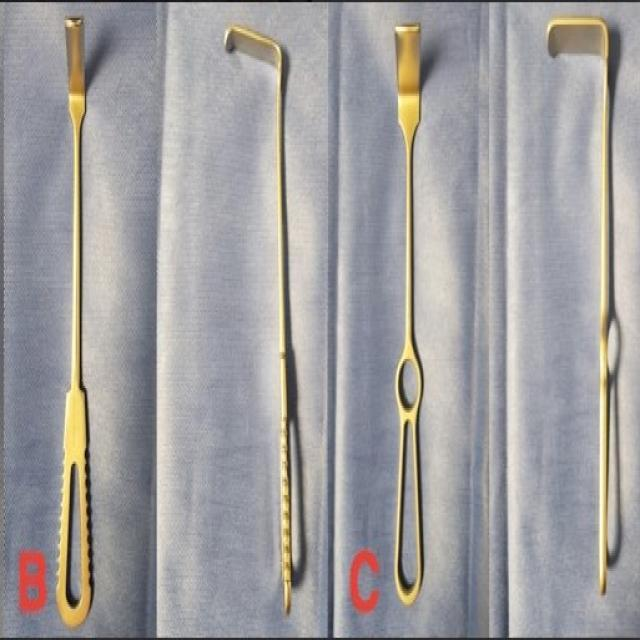Langenbach Retractor: (222, 12, 300, 620), (58, 11, 96, 636), (392, 17, 425, 605)
